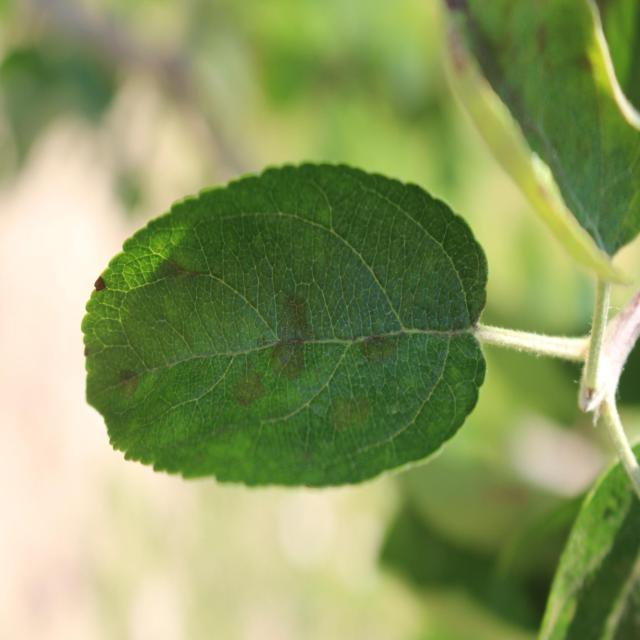Black Rot: (77, 269, 118, 313)
scab: (67, 196, 505, 474), (444, 7, 640, 285)
